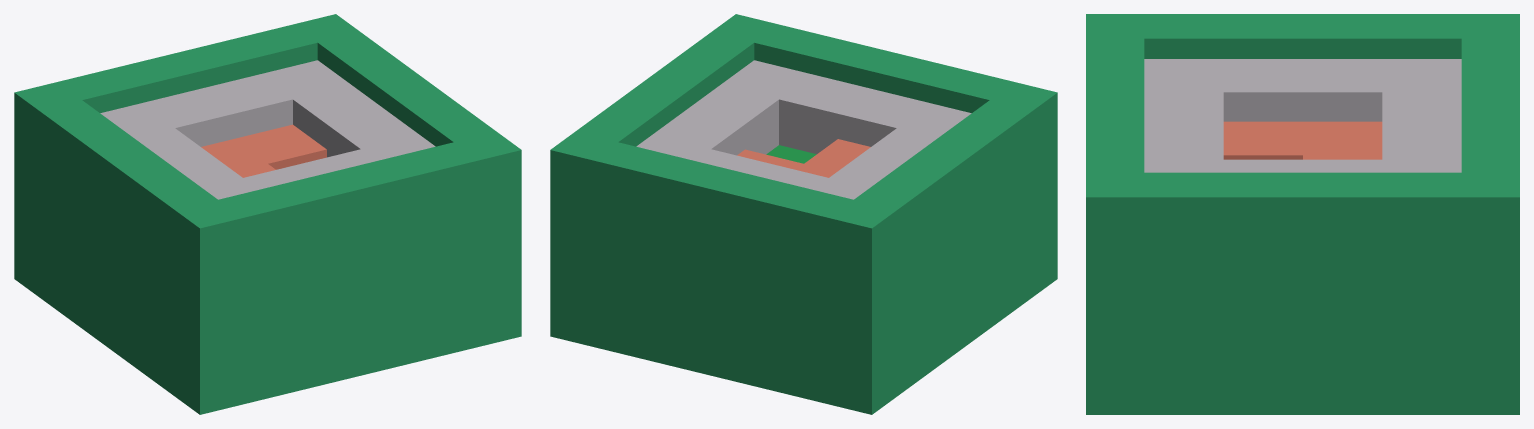
The model's file is Sushi.glb.
The picture shows the model from 3 angles, left to right: view 1: azimuth 30°, elevation 25°; view 2: azimuth 150°, elevation 25°; view 3: azimuth 270°, elevation 25°; orthographic projection. The views are drawn at different scales.
Visible parts, largest first — view 1: Sushi; view 2: Sushi; view 3: Sushi.
Boxes of the visible parts, bbox=[...] form: Sushi: bbox=[14, 14, 521, 414]; Sushi: bbox=[550, 14, 1057, 414]; Sushi: bbox=[1086, 14, 1519, 414].
Size of the model in its own units: 2.45 by 1.36 by 2.45.
